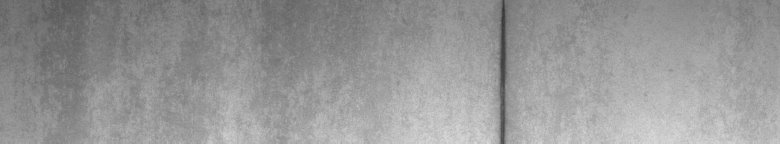hd: (492, 4, 512, 136)
